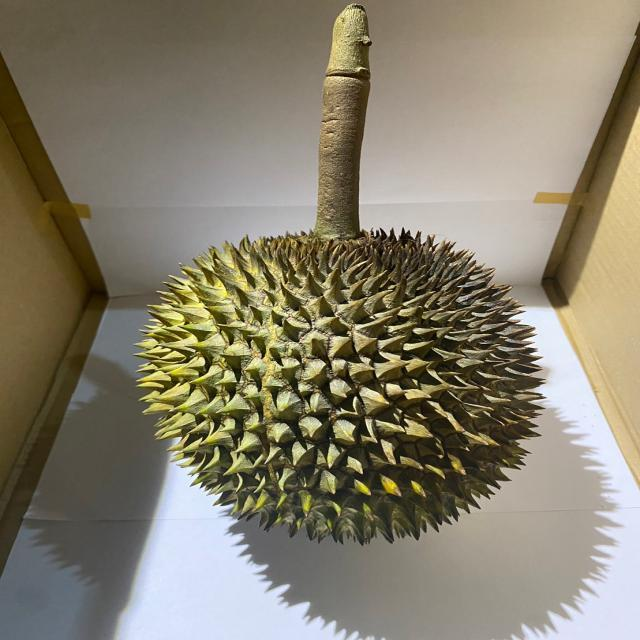immature: (127, 225, 551, 551)
